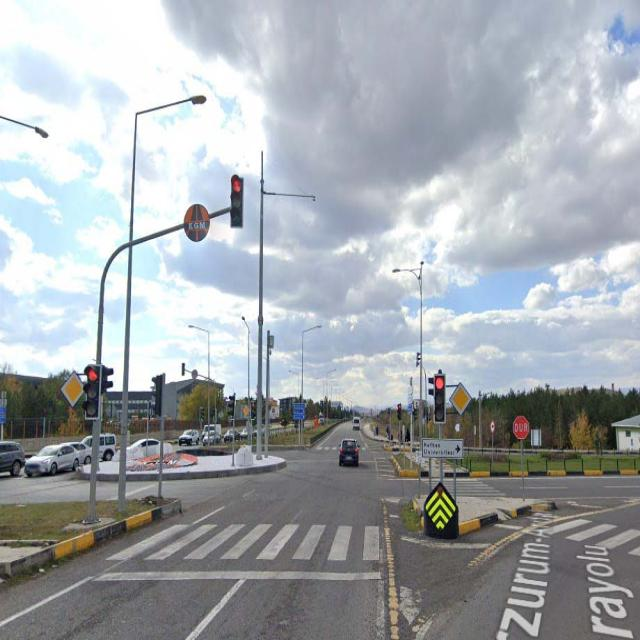dur: (514, 416, 528, 441)
kirmizi: (87, 365, 99, 419), (230, 176, 242, 223), (434, 375, 445, 421)
